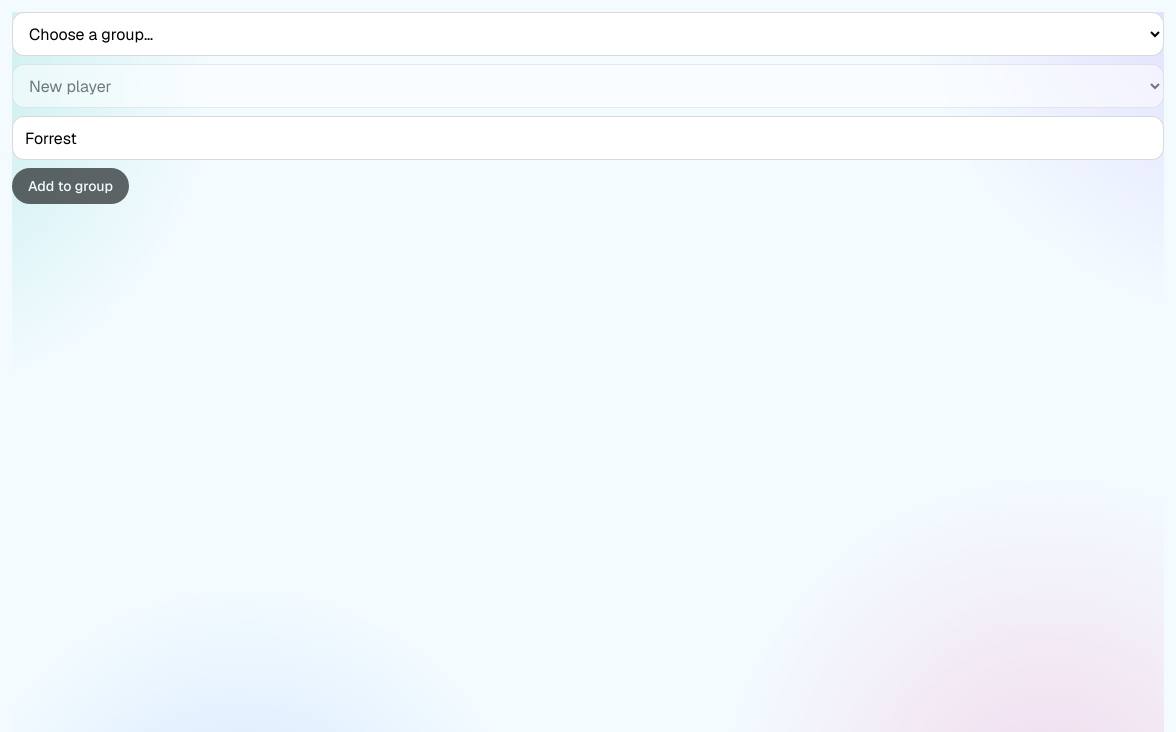
Test: AddToGroupForm › offers the chosen group's guests and enables submit
Select "Friday Durak" in the dropdown named "Group" at (588, 34), box [12,12,1164,56]
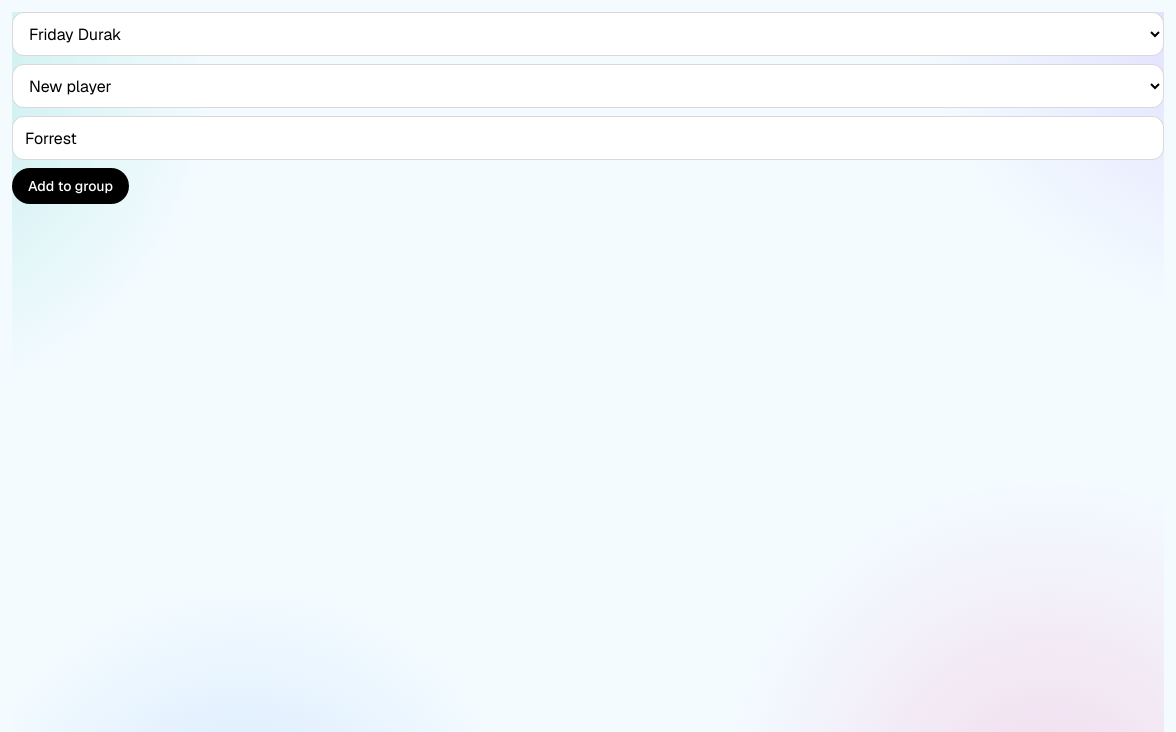
expect the button "Add to group" is enabled: met, box [12,168,129,204]
